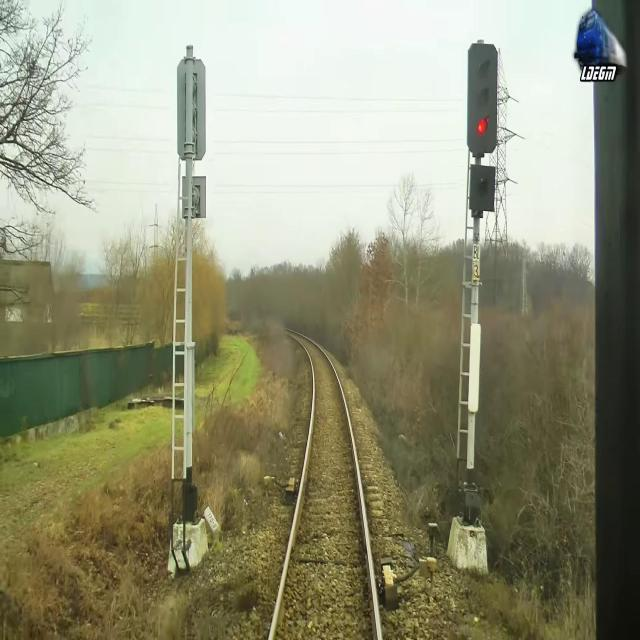rail-track: (273, 335, 376, 639)
